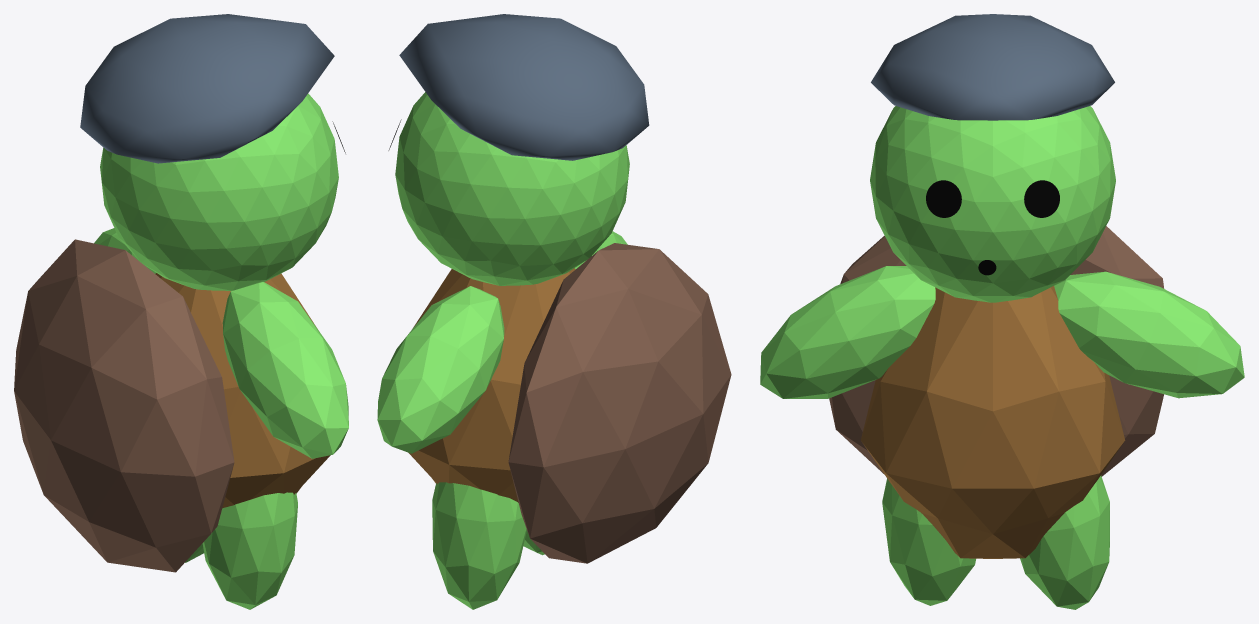
Rendered from turtle.fbx.
The picture shows the model from 3 angles, left to right: view 1: azimuth 30°, elevation 25°; view 2: azimuth 150°, elevation 25°; view 3: azimuth 270°, elevation 25°; orthographic projection. The views are drawn at different scales.
Visible parts, largest first — view 1: Icosphere.006, Icosphere.007, Icosphere.008, Icosphere.003, Icosphere.001, Icosphere.005, Icosphere.002; view 2: Icosphere.006, Icosphere.007, Icosphere.008, Icosphere.002, Icosphere.001, Icosphere.004; view 3: Icosphere.001, Icosphere.007, Icosphere.008, Icosphere.002, Icosphere.003, Icosphere.006, Icosphere.004, Icosphere.005, Circle.
Part boxes in pixels (left/top/right/bottom): Icosphere.006: left=14, top=239, right=234, bottom=572; Icosphere.007: left=100, top=93, right=338, bottom=290; Icosphere.008: left=80, top=14, right=334, bottom=163; Icosphere.003: left=222, top=282, right=348, bottom=458; Icosphere.001: left=155, top=273, right=330, bottom=507; Icosphere.005: left=202, top=492, right=297, bottom=609; Icosphere.002: left=94, top=228, right=155, bottom=273; Icosphere.006: left=508, top=243, right=731, bottom=563; Icosphere.007: left=395, top=92, right=629, bottom=285; Icosphere.008: left=399, top=14, right=649, bottom=160; Icosphere.002: left=377, top=286, right=504, bottom=453; Icosphere.001: left=408, top=268, right=575, bottom=502; Icosphere.004: left=432, top=482, right=526, bottom=609; Icosphere.001: left=861, top=286, right=1125, bottom=558; Icosphere.007: left=870, top=106, right=1115, bottom=302; Icosphere.008: left=871, top=14, right=1114, bottom=120; Icosphere.002: left=1054, top=271, right=1244, bottom=398; Icosphere.003: left=760, top=266, right=935, bottom=398; Icosphere.006: left=829, top=226, right=1164, bottom=476; Icosphere.004: left=1020, top=475, right=1109, bottom=609; Icosphere.005: left=882, top=478, right=975, bottom=605; Circle: left=926, top=180, right=1059, bottom=217.
Bounding box in the file's own units: 274 × 518 × 394.
